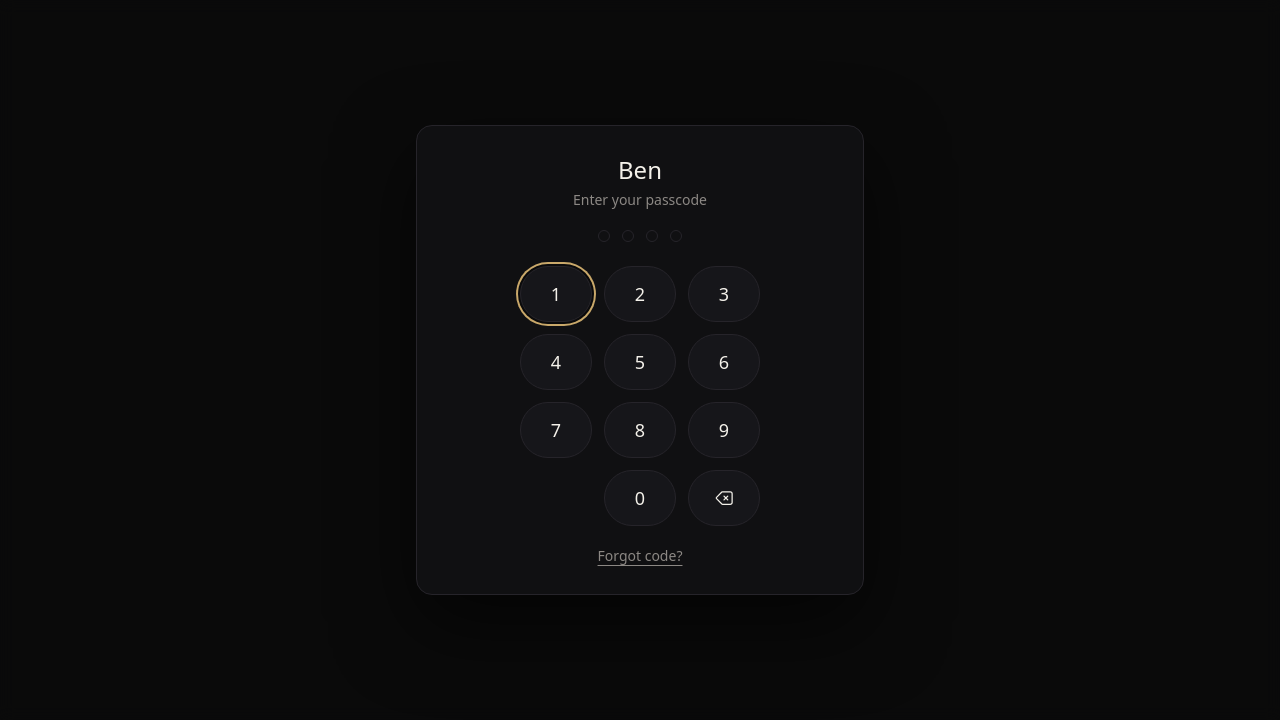
Scenario: PasscodePrompt › owner: a 500 says "Could not reset the passcode. Try again." and does not reset
This screenshot has width=1280, height=720.
Click the button "Forgot code?" at point(640, 556), box [598, 546, 682, 566]
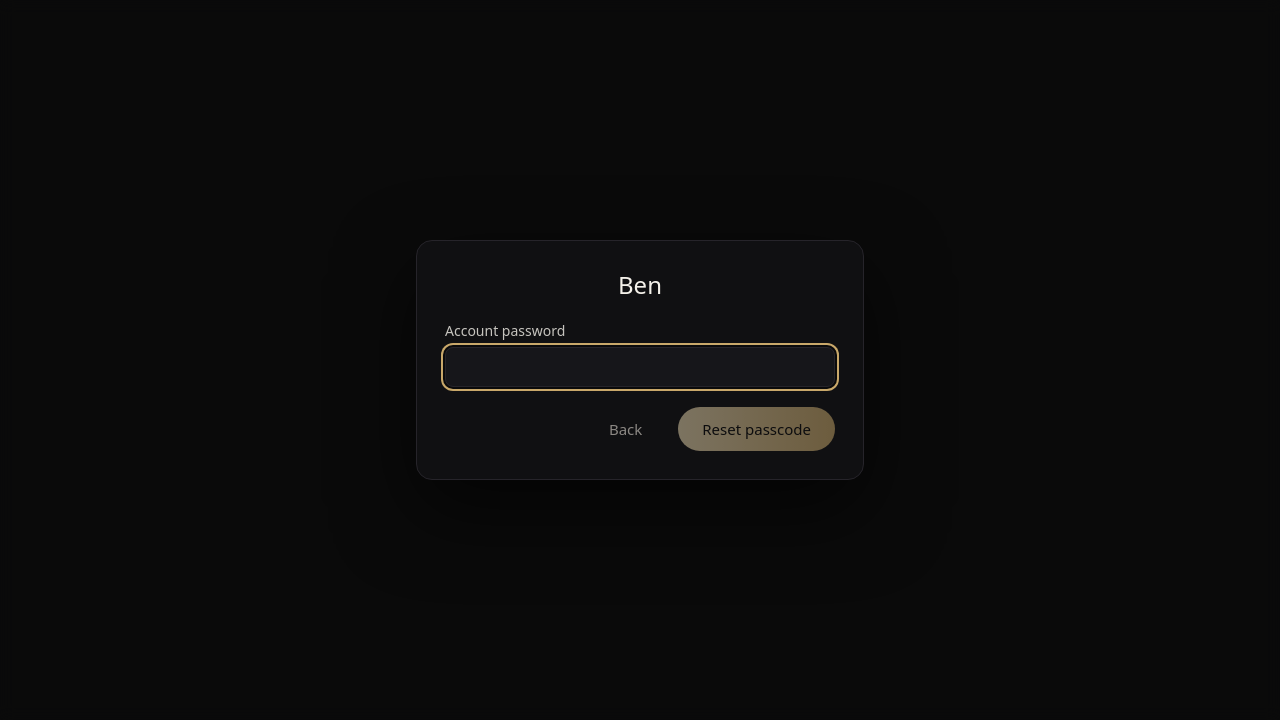
Type "hunter22" into the password field labelled "Account password" at point(640, 367), box [445, 347, 835, 387]
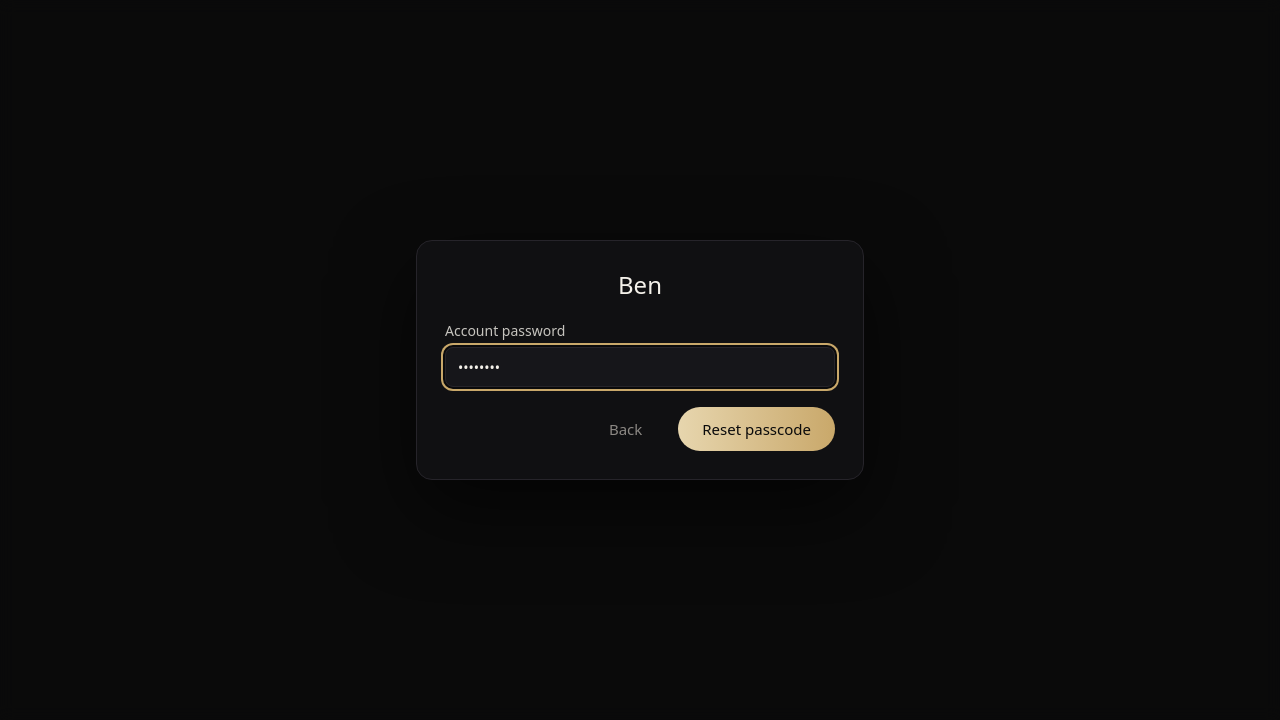
Click the button "Reset passcode" at point(757, 429), box [678, 407, 835, 451]
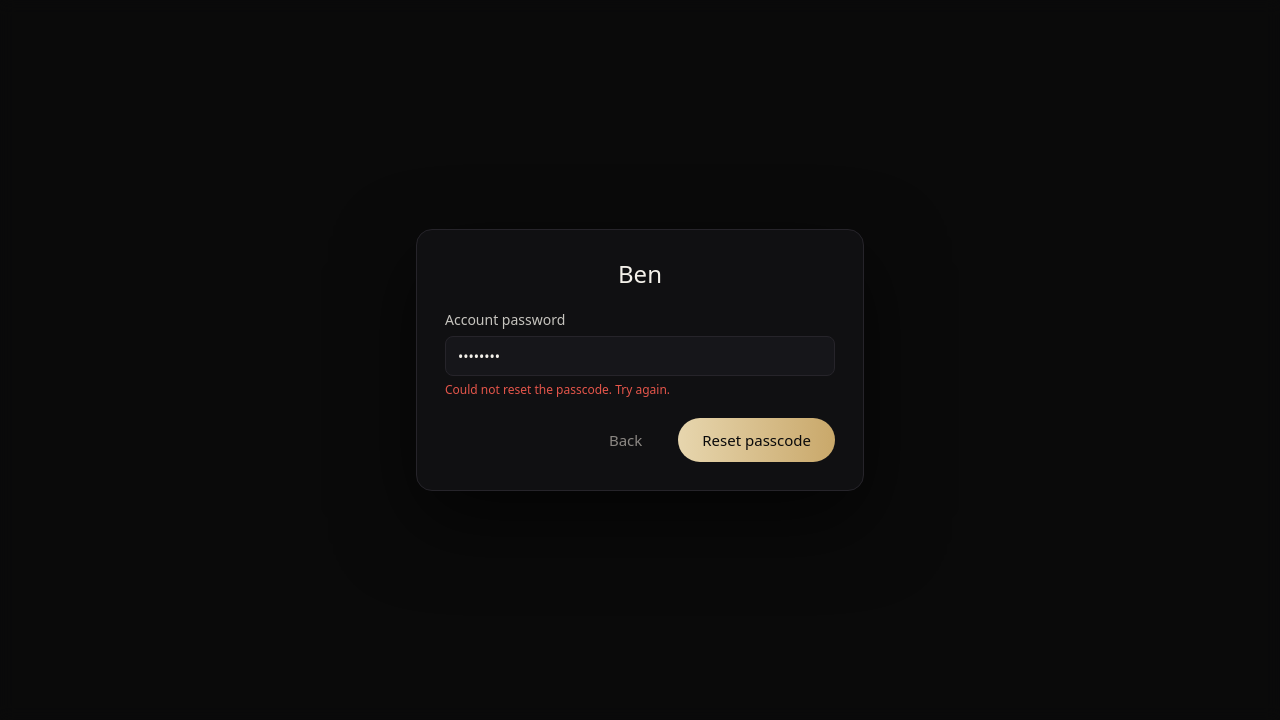
Now the message reads "Could not reset the passcode. Try again.", box [445, 381, 670, 398]
